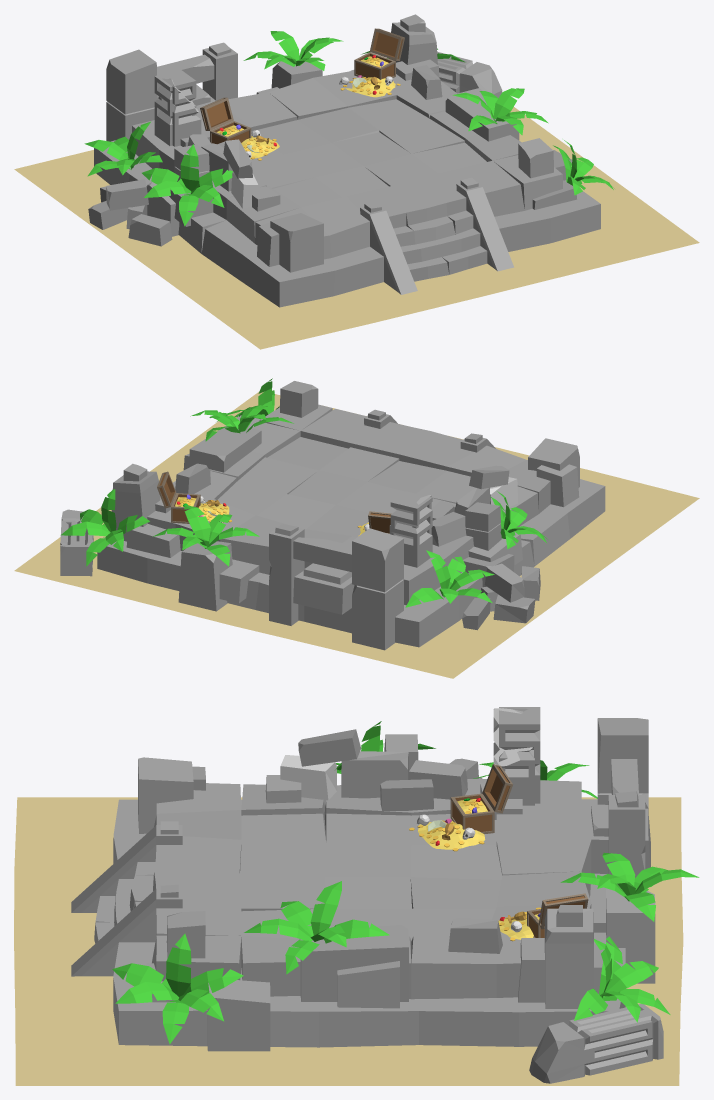
File: portal.fbx
The picture shows the model from 3 angles, top to bottom: view 1: azimuth 30°, elevation 25°; view 2: azimuth 150°, elevation 25°; view 3: azimuth 270°, elevation 25°; orthographic projection. The views are drawn at different scales.
Parts seen in each view (by area): view 1: Temple, Seashore, Bricks, FernB.002, Base.001, FernA.001, FernB, FernA, FernB.003, Chest.001, Chest.002, Chest (+1 smaller); view 2: Temple, Seashore, Bricks, Base.001, FernB.001, FernA, FernB, FernA.001, FernB.002, FernB.003, Chest, Chest.001; view 3: Temple, Seashore, Bricks, FernB.003, FernA.001, FernB.001, FernA, Base.001, Chest.003, Chest.002, GoldPile.001, FernB.002 (+2 smaller).
Boxes of the visible parts, x1,y1,x2,y2 form: Temple: (94,14,600,307); Seashore: (14,107,699,349); Bricks: (88,65,442,246); FernB.002: (142,144,232,226); Base.001: (154,69,196,145); FernA.001: (452,88,548,135); FernB: (84,121,162,176); FernA: (243,31,343,70); FernB.003: (553,140,614,195); Chest.001: (369,28,404,60); Chest.002: (200,97,233,130); Chest: (354,52,395,79); Temple: (60,381,605,650); Seashore: (14,392,699,678); Bricks: (175,463,540,630); Base.001: (390,491,432,567); FernB.001: (61,489,149,566); FernA: (153,505,259,566); FernB: (405,550,494,607); FernA.001: (190,405,293,441); FernB.002: (490,491,547,549); FernB.003: (217,378,279,421); Chest: (171,493,200,523); Chest.001: (157,471,176,508); Temple: (71,708,663,1083); Seashore: (14,797,683,1085); Bricks: (280,729,502,953); FernB.003: (112,933,243,1044); FernA.001: (244,881,389,974); FernB.001: (574,936,670,1022); FernA: (560,852,699,921); Base.001: (499,707,540,803); Chest.003: (450,793,494,834); Chest.002: (482,764,512,813); GoldPile.001: (418,821,485,849); FernB.002: (335,721,435,773).
Bounding box in the file's own units: 547 × 134 × 549.
